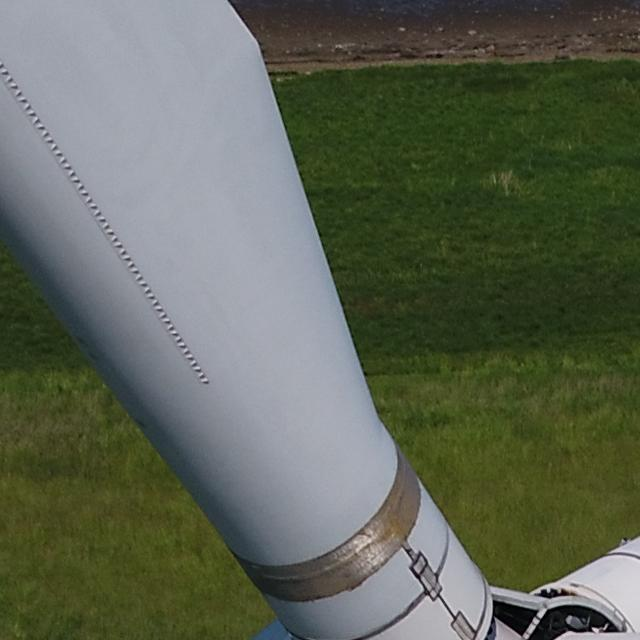damage: (5, 64, 80, 189), (66, 176, 141, 301), (136, 268, 211, 393)
